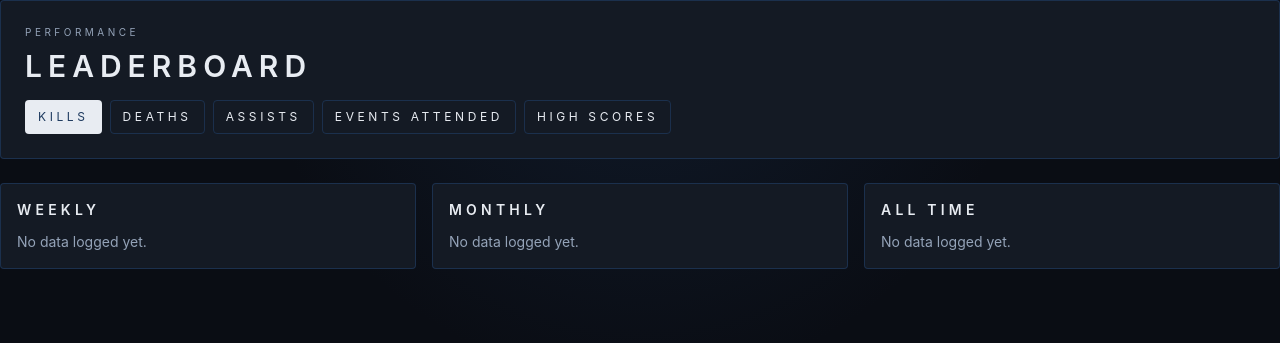
LeaderboardPage › shows the battle date in the high score rankings
This screenshot has width=1280, height=343.
Expected: the heading "Leaderboard" is shown, left=25, top=48, right=312, bottom=84
Click the button "High Scores" at (598, 117), box left=524, top=100, right=671, bottom=134
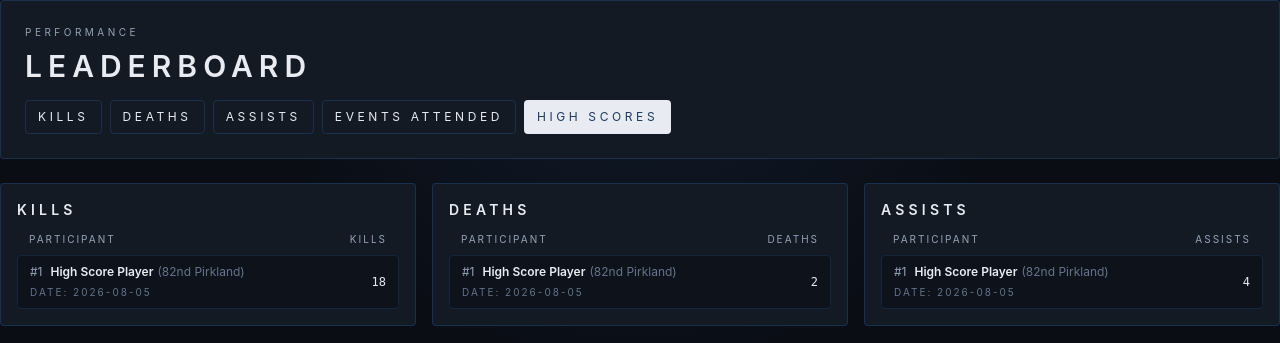
Result: the text "Date: 2026-08-05" is shown 3 times at left=30, top=286, right=152, bottom=298; left=462, top=286, right=584, bottom=298; left=894, top=286, right=1016, bottom=298
